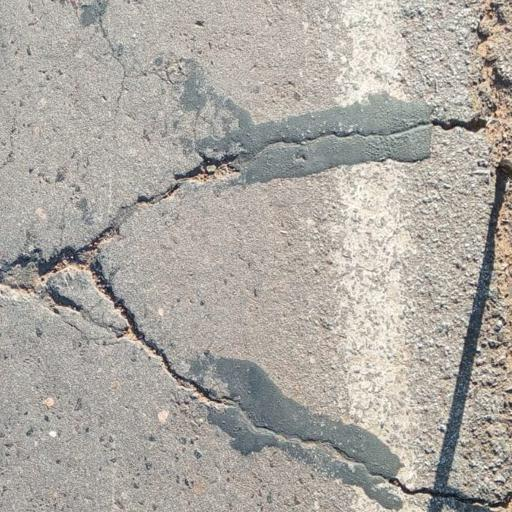GRIETA: (79, 256, 511, 508), (0, 114, 480, 297), (476, 1, 511, 361), (43, 283, 132, 337)
PIEL DE COCODRILO: (111, 60, 256, 149)
